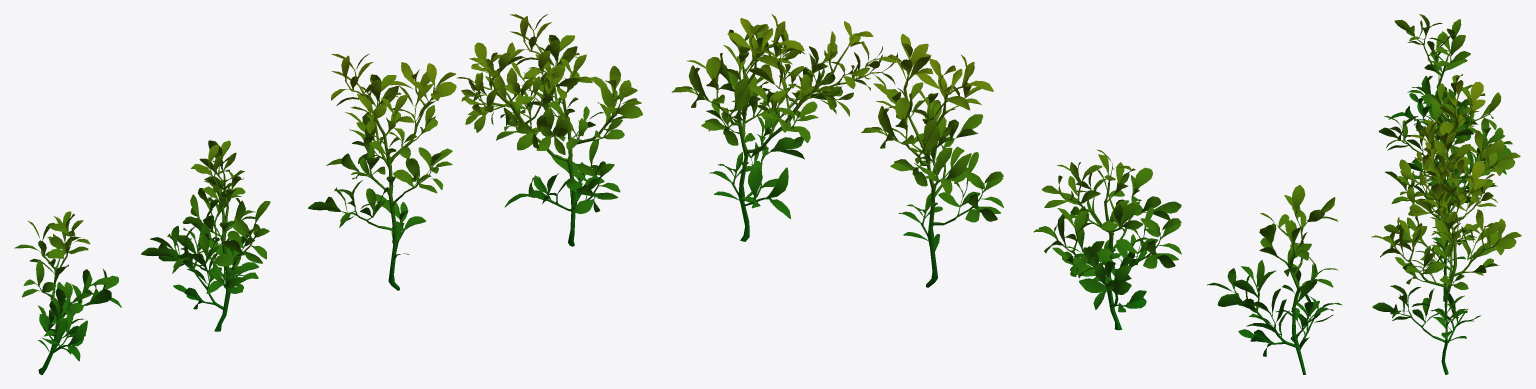
File: shrub_04_0.glb
3 renders of one model, left to right at view 1: azimuth 30°, elevation 25°; view 2: azimuth 150°, elevation 25°; view 3: azimuth 270°, elevation 25°, orthographic. The views are drawn at different scales.
Visible parts, largest first — view 1: shrub_04; view 2: shrub_04; view 3: shrub_04.
Part boxes in pixels (x1,y1,x2,y2): shrub_04: [14, 14, 642, 374]; shrub_04: [671, 14, 1341, 374]; shrub_04: [1371, 14, 1521, 374].
Bounding box in the file's own units: 0.5837 × 0.2192 × 0.146.
